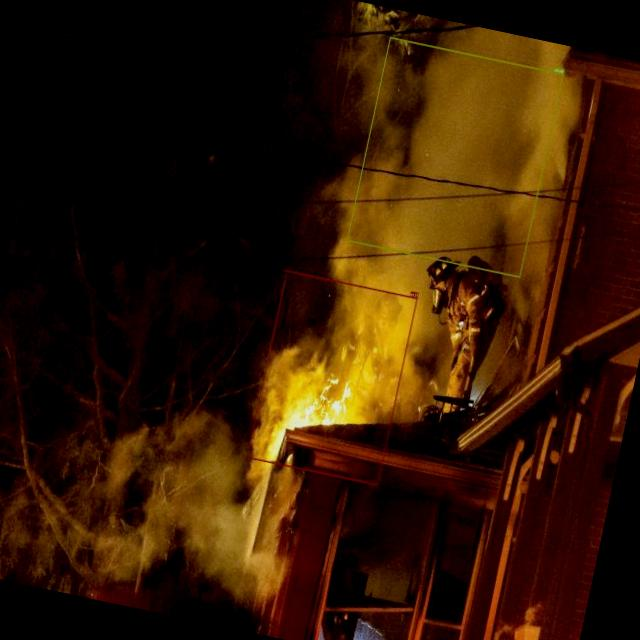fire: (247, 269, 418, 485)
smoke: (346, 36, 564, 278)
